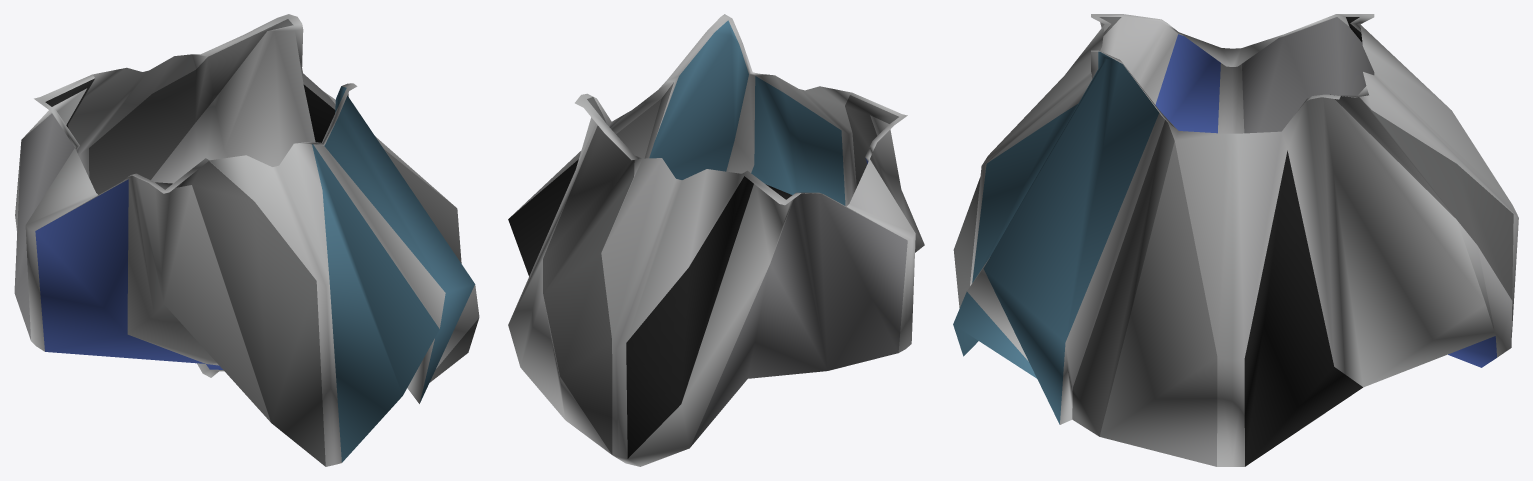
The picture shows the model from 3 angles, left to right: view 1: azimuth 30°, elevation 25°; view 2: azimuth 150°, elevation 25°; view 3: azimuth 270°, elevation 25°; orthographic projection. The views are drawn at different scales.
Visible parts, largest first — view 1: alt336; view 2: alt336; view 3: alt336.
Boxes of the visible parts, bbox=[...] form: alt336: bbox=[14, 14, 479, 466]; alt336: bbox=[508, 14, 924, 466]; alt336: bbox=[953, 14, 1518, 466].
Bounding box in the file's own units: 0.4713 × 0.3483 × 0.5.
